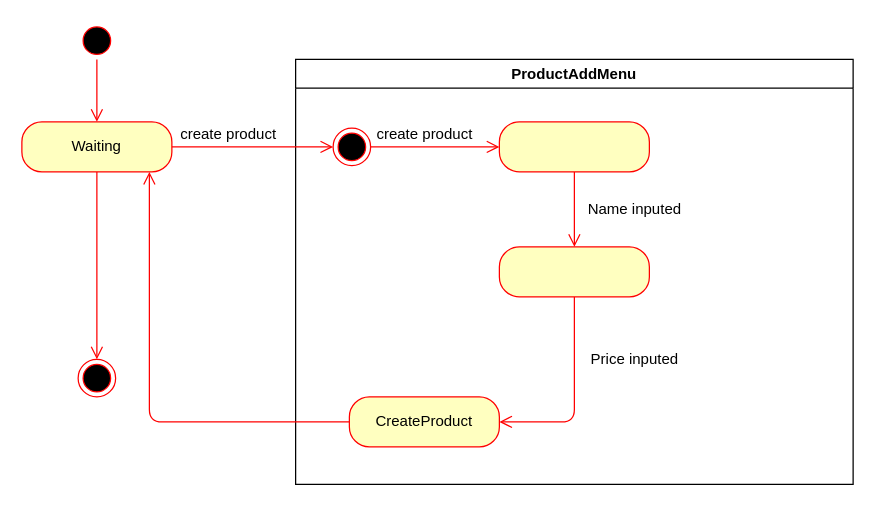
This 875x506 diagram has some shape labels left out. Here are the shapes that lost their labels. From the top down, the centre of each, then its label:
point (573, 146): Input Product Name
point (573, 271): Input Product Price
